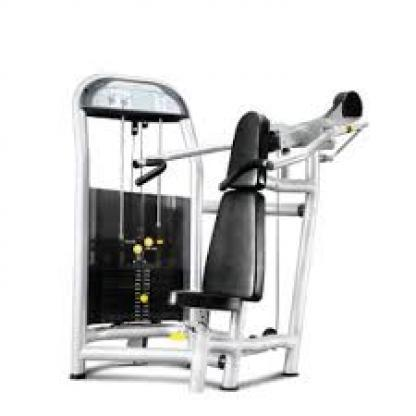shoulder press machine: (61, 62, 372, 403)
